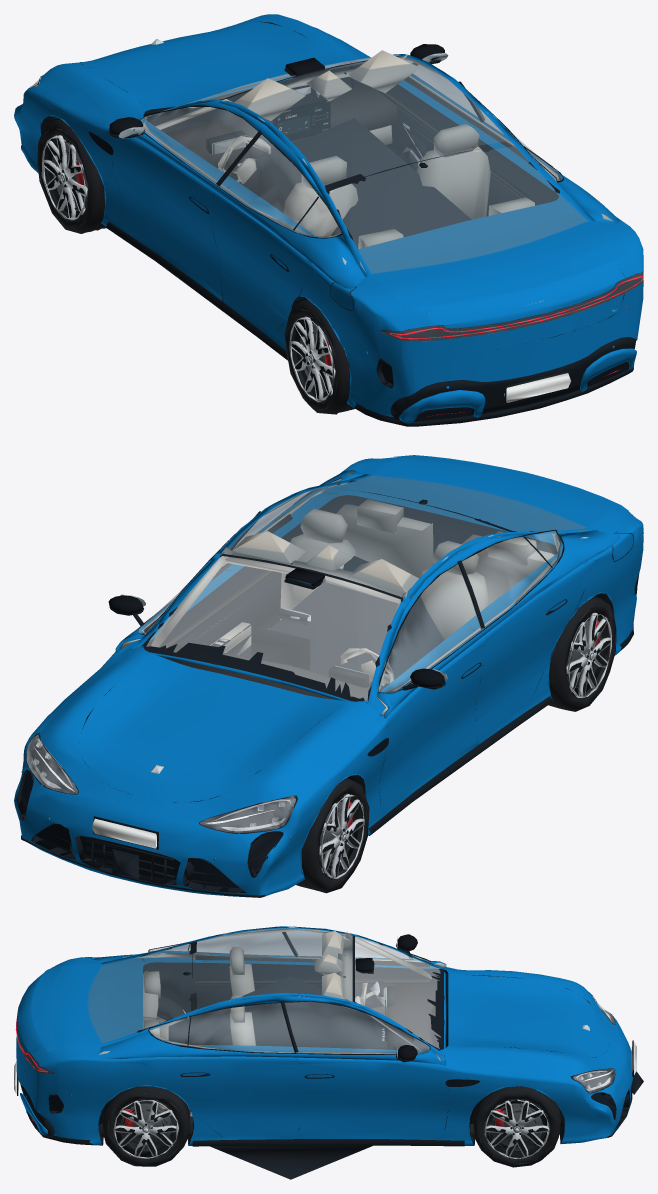
The picture shows the model from 3 angles, top to bottom: view 1: azimuth 30°, elevation 25°; view 2: azimuth 150°, elevation 25°; view 3: azimuth 270°, elevation 25°; orthographic projection. The views are drawn at different scales.
Visible parts, largest first — view 1: geometry:body, geometry:interior, geometry:wheel-front-left, geometry:wheel-rear-left, geometry:spoiler, geometry:display-center, geometry:steering; view 2: geometry:body, geometry:interior, geometry:wheel-rear-left, geometry:wheel-front-left, geometry:spoiler, geometry:steering; view 3: geometry:body, geometry:interior, geometry:wheel-rear-right, geometry:wheel-front-right, geometry:spoiler, geometry:wheel-rear-left.
Part boxes in pixels (left/top/right/bottom): geometry:body: left=14, top=14, right=643, bottom=426; geometry:interior: left=143, top=50, right=613, bottom=336; geometry:wheel-front-left: left=37, top=119, right=106, bottom=233; geometry:wheel-rear-left: left=284, top=300, right=354, bottom=414; geometry:spoiler: left=394, top=242, right=629, bottom=310; geometry:display-center: left=275, top=100, right=330, bottom=140; geometry:steering: left=218, top=135, right=270, bottom=183; geometry:body: left=14, top=457, right=643, bottom=897; geometry:interior: left=121, top=471, right=588, bottom=715; geometry:wheel-rear-left: left=548, top=596, right=616, bottom=711; geometry:wheel-front-left: left=296, top=778, right=369, bottom=893; geometry:spoiler: left=394, top=455, right=628, bottom=511; geometry:steering: left=340, top=648, right=394, bottom=685; geometry:body: left=14, top=926, right=643, bottom=1146; geometry:interior: left=98, top=926, right=445, bottom=1179; geometry:wheel-rear-right: left=102, top=1086, right=189, bottom=1166; geometry:wheel-front-right: left=473, top=1086, right=560, bottom=1167; geometry:spoiler: left=31, top=965, right=62, bottom=1051; geometry:wheel-rear-left: left=156, top=996, right=187, bottom=1020.
Bounding box in the file's own units: 2.34 × 2.03 × 5.09.
Materials: 31 (2 with a texture image).
